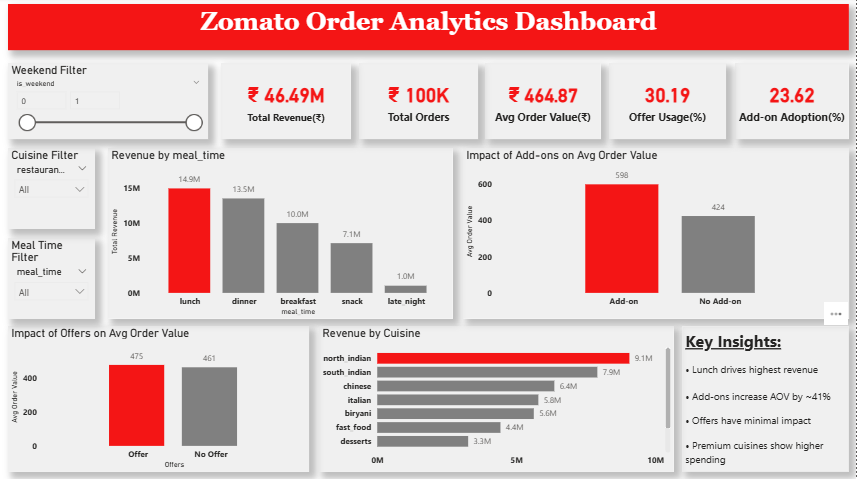

The dashboard page shown, as its layout file describes it:
{"tool":"powerbi","page":{"name":"Page 1","canvas":[1280,720],"ordinal":0},"visuals":[{"type":"card","fields":{"Values":["Zomato_sessions_analysis.Total Revenue"]},"box":[331.6,98.6,194.2,113.5],"z":0},{"type":"card","fields":{"Values":["Zomato_sessions_analysis.Total Orders"]},"box":[537.8,98.6,177.8,113.5],"z":1},{"type":"card","fields":{"Values":["Zomato_sessions_analysis.AOV"]},"box":[726,98.6,173.3,113.5],"z":2},{"type":"card","fields":{"Values":["Zomato_sessions_analysis.Addon %"]},"box":[1099.4,98.6,170.3,113.5],"z":3},{"type":"card","fields":{"Values":["Zomato_sessions_analysis.Offer %"]},"box":[911.2,98.6,174.8,113.5],"z":4},{"type":"clusteredColumnChart","title":"Revenue by meal_time","fields":{"Category":["Zomato_sessions_analysis.meal_time"],"Y":["Zomato_sessions_analysis.Total Revenue"]},"box":[162.8,225.6,515.4,255.4],"z":5},{"type":"clusteredColumnChart","title":"Impact of Add-ons on Avg Order Value","fields":{"Y":["Zomato_sessions_analysis.AOV"],"Category":["Zomato_sessions_analysis.Addon Label"]},"box":[693.1,225.6,576.6,255.4],"z":6},{"type":"clusteredBarChart","title":"Revenue by Cuisine","fields":{"Category":["Zomato_sessions_analysis.restaurant_cuisine"],"Y":["Zomato_sessions_analysis.Total Revenue"]},"box":[478,491.5,530.3,218.1],"z":7},{"type":"clusteredColumnChart","title":"Impact of Offers on Avg Order Value","fields":{"Y":["Zomato_sessions_analysis.AOV"],"Category":["Zomato_sessions_analysis.Offer Label"]},"box":[13.4,491.5,449.6,218.1],"z":8},{"type":"slicer","title":"Meal Time Filter","fields":{"Values":["Zomato_sessions_analysis.meal_time"]},"box":[13.4,360,130,121],"z":9},{"type":"slicer","title":"Cuisine Filter","fields":{"Values":["Zomato_sessions_analysis.restaurant_cuisine"]},"box":[13.4,225.6,130,121],"z":10},{"type":"slicer","title":"Weekend Filter","fields":{"Values":["Zomato_sessions_analysis.is_weekend"]},"box":[13.4,98.6,298.8,113.5],"z":12},{"type":"textbox","box":[13.4,10.5,1256.3,68.7],"z":13},{"type":"textbox","box":[1020.2,491.5,249.5,218.1],"z":14}]}

Visuals, with their boxes in screenshot pixels (x1, y1, x2, y2), scaled from the page's 1280x720 canvas onto the 857x479 screenshot:
card - Zomato_sessions_analysis.Total Revenue: x1=222 y1=66 x2=352 y2=141
card - Zomato_sessions_analysis.Total Orders: x1=360 y1=66 x2=479 y2=141
card - Zomato_sessions_analysis.AOV: x1=486 y1=66 x2=602 y2=141
card - Zomato_sessions_analysis.Addon %: x1=736 y1=66 x2=850 y2=141
card - Zomato_sessions_analysis.Offer %: x1=610 y1=66 x2=727 y2=141
"Revenue by meal_time" clusteredColumnChart: x1=109 y1=150 x2=454 y2=320
"Impact of Add-ons on Avg Order Value" clusteredColumnChart: x1=464 y1=150 x2=850 y2=320
"Revenue by Cuisine" clusteredBarChart: x1=320 y1=327 x2=675 y2=472
"Impact of Offers on Avg Order Value" clusteredColumnChart: x1=9 y1=327 x2=310 y2=472
"Meal Time Filter" slicer: x1=9 y1=240 x2=96 y2=320
"Cuisine Filter" slicer: x1=9 y1=150 x2=96 y2=231
"Weekend Filter" slicer: x1=9 y1=66 x2=209 y2=141
textbox: x1=9 y1=7 x2=850 y2=53
textbox: x1=683 y1=327 x2=850 y2=472
